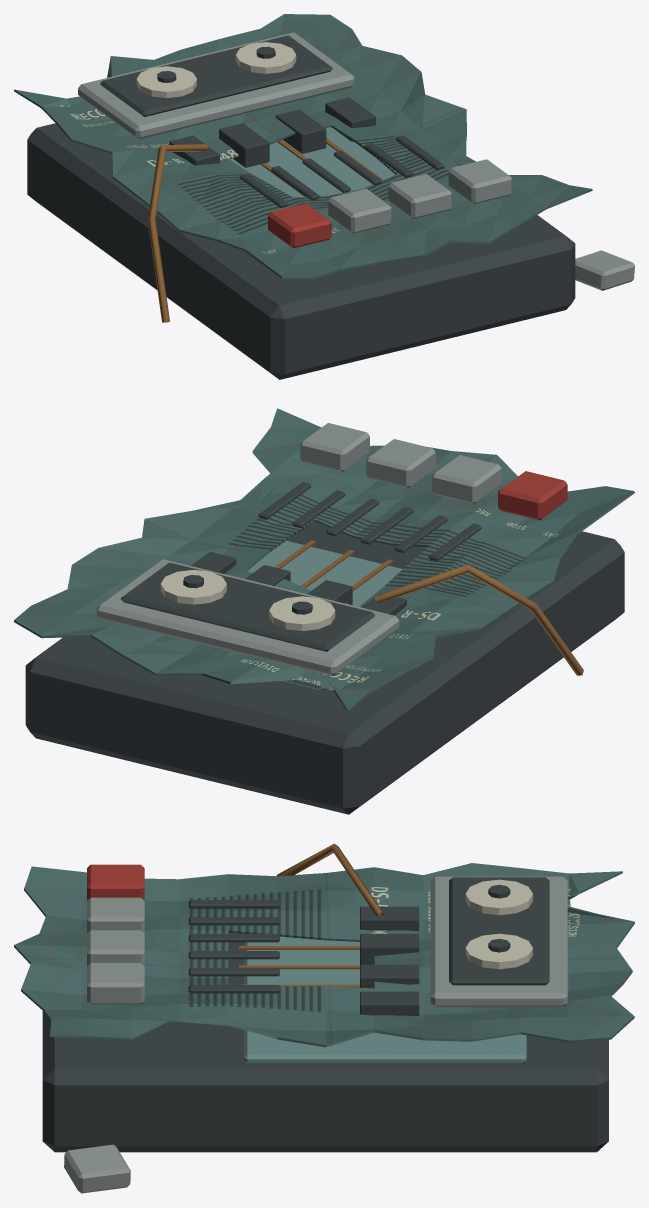
Rendered from DS_Clue_Recorder_Damaged_V01.fbx.
The picture shows the model from 3 angles, top to bottom: view 1: azimuth 30°, elevation 25°; view 2: azimuth 150°, elevation 25°; view 3: azimuth 270°, elevation 25°; orthographic projection. The views are drawn at different scales.
Parts seen in each view (by area): view 1: DS_Clue_Recorder_Damaged_V01; view 2: DS_Clue_Recorder_Damaged_V01; view 3: DS_Clue_Recorder_Damaged_V01.
Part boxes in pixels (left/top/right/bottom): DS_Clue_Recorder_Damaged_V01: left=14, top=14, right=634, bottom=379; DS_Clue_Recorder_Damaged_V01: left=14, top=408, right=634, bottom=814; DS_Clue_Recorder_Damaged_V01: left=14, top=843, right=634, bottom=1193.
Size of the model in its own units: 58.11 by 18.99 by 67.99.
7 materials, 1 textured.
